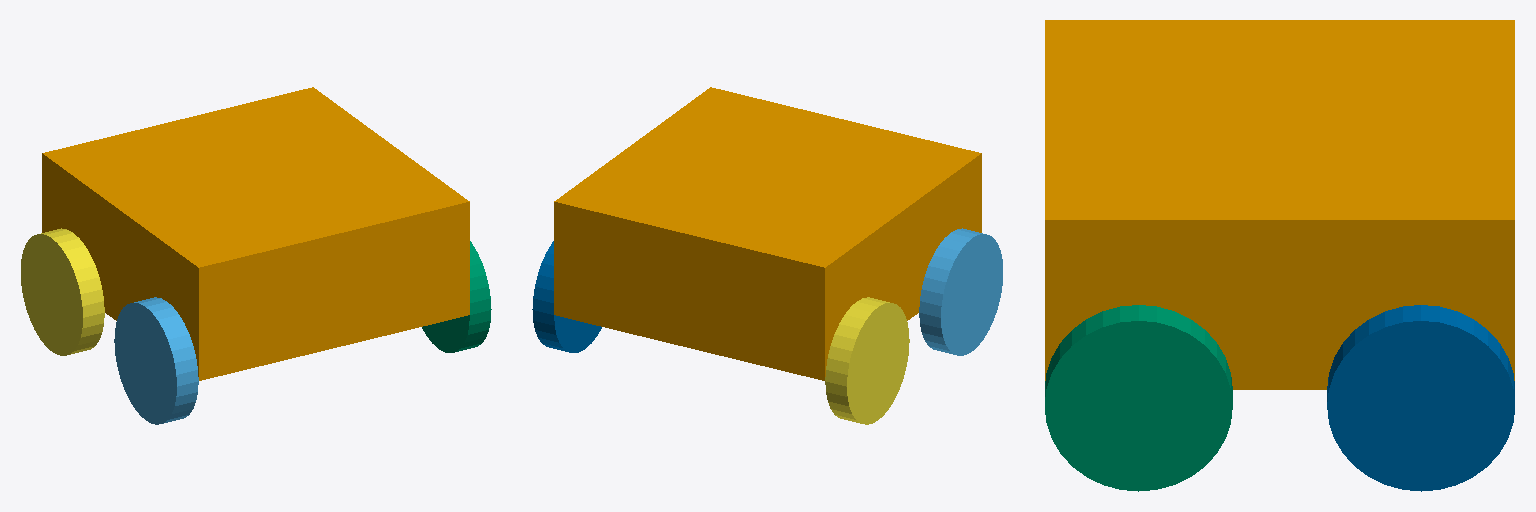
robot.urdf — robot_mov:
<?xml version="1.0"?>
<robot name="robot_mov">

    <material name="Black">
        <color rgba="0.0 0.0 0.0 1.0"/>
    </material>
    <material name="White">
        <color rgba="1.0 1.0 1.0 1.0"/>
    </material>

    <gazebo>
        <plugin name="gazebo_ros_control" filename="libgazebo_ros_control.so">
            <robotNamespace>/robot_mov</robotNamespace>
            <robotSimType>gazebo_ros_control/DefaultRobotHWSim</robotSimType>
        </plugin>
    </gazebo>

    <link name="chassis">
        <inertial>
            <mass value="5.0"/>
            <inertia ixx="3.02083333333" ixy="0.0" ixz="0.0" iyy="3.02083333333" iyz="0.0" izz="5.20833333333"/>
        </inertial>
        <visual>
            <origin xyz="0.0 0.0 0.0" rpy="0.0 0.0 0.0"/>
            <geometry>
                <box size="2.5 2.5 1.0"/>
            </geometry>
        </visual>
        <collision>
            <origin xyz="0.0 0.0 0.0" rpy="0.0 0.0 0.0"/>
            <geometry>
                <box size="2.5 2.5 1.0"/>
            </geometry>
        </collision>
    </link>

    <link name="right_front_wheel">
        <inertial>
                <origin xyz="0.0 0.0 0.0" rpy="0.0 0.0 0.0"/>
                <mass value="0.2"/>
                <inertia ixx="0.0131666666667" ixy="0.0" ixz="0.0" iyy="0.0131666666667" iyz="0.0" izz="0.025"/>
        </inertial>
        <visual>
            <origin xyz="0.0 0.0 0.0" rpy="0.0 0.0 0.0"/>
            <geometry>
                <cylinder radius="0.5" length="0.2"/>
            </geometry>
        </visual>
        <collision>
            <origin rpy="0 0 0" xyz="0 0 0"/>
            <geometry>
                <cylinder radius="0.5" length="0.2"/>
            </geometry>
        </collision>
    </link>

    <joint name="right_front_wheel_joint" type="continuous">
        <origin xyz="-1.35 -0.75 -0.5" rpy="0.0 1.5708 0.0"/>
        <parent link="chassis"/>
        <child link="right_front_wheel"/>
        <axis xyz="0.0 0.0 1.0"/>
        <limit effort="100" velocity="100"/>
        <dynamics damping="0.0" friction="0.0"/>   
    </joint>

    <link name="left_front_wheel">
        <inertial>
                <origin xyz="0.0 0.0 0.0" rpy="0.0 0.0 0.0"/>
                <mass value="0.2"/>
                <inertia ixx="0.0131666666667" ixy="0.0" ixz="0.0" iyy="0.0131666666667" iyz="0.0" izz="0.025"/>
        </inertial>
        <visual>
            <origin xyz="0.0 0.0 0.0" rpy="0.0 0.0 0.0"/>
            <geometry>
                <cylinder radius="0.5" length="0.2"/>
            </geometry>
        </visual>
        <collision>
            <origin rpy="0 0 0" xyz="0 0 0"/>
            <geometry>
                <cylinder radius="0.5" length="0.2"/>
            </geometry>
        </collision>
    </link>

    <joint name="left_front_wheel_joint" type="continuous">
        <origin xyz="1.35 -0.75 -0.5" rpy="0.0 1.5708 0.0"/>
        <parent link="chassis"/>
        <child link="left_front_wheel"/>
        <axis xyz="0.0 0.0 1.0"/>
        <limit effort="100" velocity="100"/>
        <dynamics damping="0.0" friction="0.0"/>    
    </joint>

    <link name="right_back_wheel">
        <inertial>
                <origin xyz="0.0 0.0 0.0" rpy="0.0 0.0 0.0"/>
                <mass value="0.2"/>
                <inertia ixx="0.0131666666667" ixy="0.0" ixz="0.0" iyy="0.0131666666667" iyz="0.0" izz="0.025"/>
        </inertial>
        <visual>
            <origin xyz="0.0 0.0 0.0" rpy="0.0 0.0 0.0"/>
            <geometry>
                <cylinder radius="0.5" length="0.2"/>
            </geometry>
        </visual>
        <collision>
            <origin rpy="0 0 0" xyz="0 0 0"/>
            <geometry>
                <cylinder radius="0.5" length="0.2"/>
            </geometry>
        </collision>
    </link>

    <joint name="right_back_wheel_joint" type="continuous">
        <origin xyz="-1.35 0.75 -0.5" rpy="0.0 1.5708 0.0"/>
        <parent link="chassis"/>
        <child link="right_back_wheel"/>
        <axis xyz="0.0 0.0 1.0"/>
        <limit effort="100" velocity="100"/>
        <dynamics damping="0.0" friction="0.0"/>
    </joint>

    <link name="left_back_wheel">
        <inertial>
                <origin xyz="0.0 0.0 0.0" rpy="0.0 0.0 0.0"/>
                <mass value="0.2"/>
                <inertia ixx="0.0131666666667" ixy="0.0" ixz="0.0" iyy="0.0131666666667" iyz="0.0" izz="0.025"/>
        </inertial>
        <visual>
            <origin xyz="0.0 0.0 0.0" rpy="0.0 0.0 0.0"/>
            <geometry>
                <cylinder radius="0.5" length="0.2"/>
            </geometry>
        </visual>
        <collision>
            <origin rpy="0 0 0" xyz="0 0 0"/>
            <geometry>
                <cylinder radius="0.5" length="0.2"/>
            </geometry>
        </collision>
    </link>

    <joint name="left_back_wheel_joint" type="continuous">
        <origin xyz="1.35 0.75 -0.5" rpy="0.0 1.5708 0.0"/>
        <parent link="chassis"/>
        <child link="left_back_wheel"/>
        <axis xyz="0.0 0.0 1.0"/>
        <limit effort="100" velocity="100"/>
        <dynamics damping="0.0" friction="0.0"/>
    </joint>

    <gazebo reference="chassis">
        <turnGravityOff>false</turnGravityOff>
    </gazebo>

    <gazebo reference="right_front_wheel">
        <mu1 value="200.0"/>
        <mu2 value="100.0"/>
        <kp value="10000000.0"/>
        <kd value="1.0"/>
        <material>Gazebo/Black</material>
    </gazebo>

    <gazebo reference="right_back_wheel">
        <mu1 value="200.0"/>
        <mu2 value="100.0"/>
        <kp value="10000000.0"/>
        <kd value="1.0"/>
        <material>Gazebo/Black</material>
    </gazebo>

    <gazebo reference="left_front_wheel">
        <mu1 value="200.0"/>
        <mu2 value="100.0"/>
        <kp value="10000000.0"/>
        <kd value="1.0"/>
        <material>Gazebo/Black</material>
    </gazebo>

    <gazebo reference="left_back_wheel">
        <mu1 value="200.0"/>
        <mu2 value="100.0"/>
        <kp value="10000000.0"/>
        <kd value="1.0"/>
        <material>Gazebo/Black</material>
    </gazebo>


    <transmission name="left_back_wheel_trans">
        <type>transmission_interface/SimpleTransmission</type>
        <actuator name="left_back_wheel_motor">
        <hardwareInterface>EffortJointInterface</hardwareInterface>
        <mechanicalReduction>1</mechanicalReduction>
        </actuator>
        <joint name="left_back_wheel_joint">
            <hardwareInterface>VelocityJointInterface</hardwareInterface>
        </joint>
    </transmission>

    <transmission name="right_front_wheel_trans">
        <type>transmission_interface/SimpleTransmission</type>
        <actuator name="right_front_wheel_motor">
            <hardwareInterface>EffortJointInterface</hardwareInterface>
            <mechanicalReduction>1</mechanicalReduction>
        </actuator>
        <joint name="right_front_wheel_joint">
        <hardwareInterface>VelocityJointInterface</hardwareInterface>
        </joint>
    </transmission>

    <transmission name="right_back_wheel_trans">
        <type>transmission_interface/SimpleTransmission</type>
        <actuator name="right_back_wheel_motor">
        <hardwareInterface>EffortJointInterface</hardwareInterface>
        <mechanicalReduction>1</mechanicalReduction>
        </actuator>
        <joint name="right_back_wheel_joint">
            <hardwareInterface>VelocityJointInterface</hardwareInterface>
        </joint>
    </transmission>

    <transmission name="left_front_wheel_trans">
        <type>transmission_interface/SimpleTransmission</type>
        <actuator name="left_front_wheel_motor">
            <hardwareInterface>EffortJointInterface</hardwareInterface>
            <mechanicalReduction>1</mechanicalReduction>
        </actuator>
        <joint name="left_front_wheel_joint">
        <hardwareInterface>VelocityJointInterface</hardwareInterface>
        </joint>
    </transmission>

   





    
</robot>

--- Facts derived from the render (not from the file) ---
The picture shows the robot from 3 angles, left to right: view 1: azimuth 30°, elevation 25°; view 2: azimuth 150°, elevation 25°; view 3: azimuth 270°, elevation 25°; orthographic projection.
Model robot_mov with 5 links and 4 joints (4 continuous), rooted at chassis, posed every joint at zero.
Links seen in each view (by area): view 1: chassis, right_back_wheel, right_front_wheel, left_front_wheel; view 2: chassis, right_front_wheel, right_back_wheel, left_back_wheel; view 3: chassis, left_front_wheel, left_back_wheel.
Link boxes in pixels (box(x1,y1,x2,y2)): chassis: box(42, 87, 469, 380); right_back_wheel: box(21, 228, 104, 355); right_front_wheel: box(114, 297, 198, 424); left_front_wheel: box(422, 241, 491, 352); chassis: box(554, 87, 981, 380); right_front_wheel: box(919, 228, 1002, 355); right_back_wheel: box(825, 297, 909, 424); left_back_wheel: box(532, 241, 601, 352); chassis: box(1045, 20, 1514, 389); left_front_wheel: box(1045, 305, 1232, 491); left_back_wheel: box(1327, 305, 1514, 491).
Bounding box of the posed robot: 2.9 × 2.5 × 1.5 m (x, y, z).
Geometry: primitives only (box / cylinder / sphere), no mesh files.